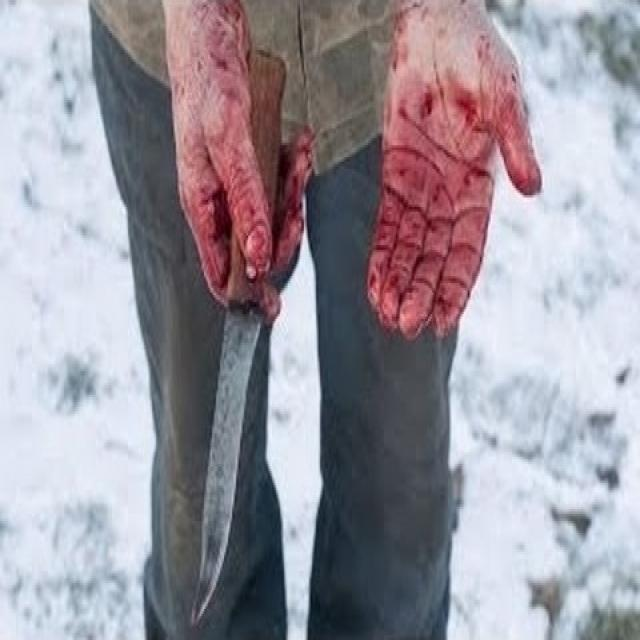Knife: (184, 235, 290, 633)
